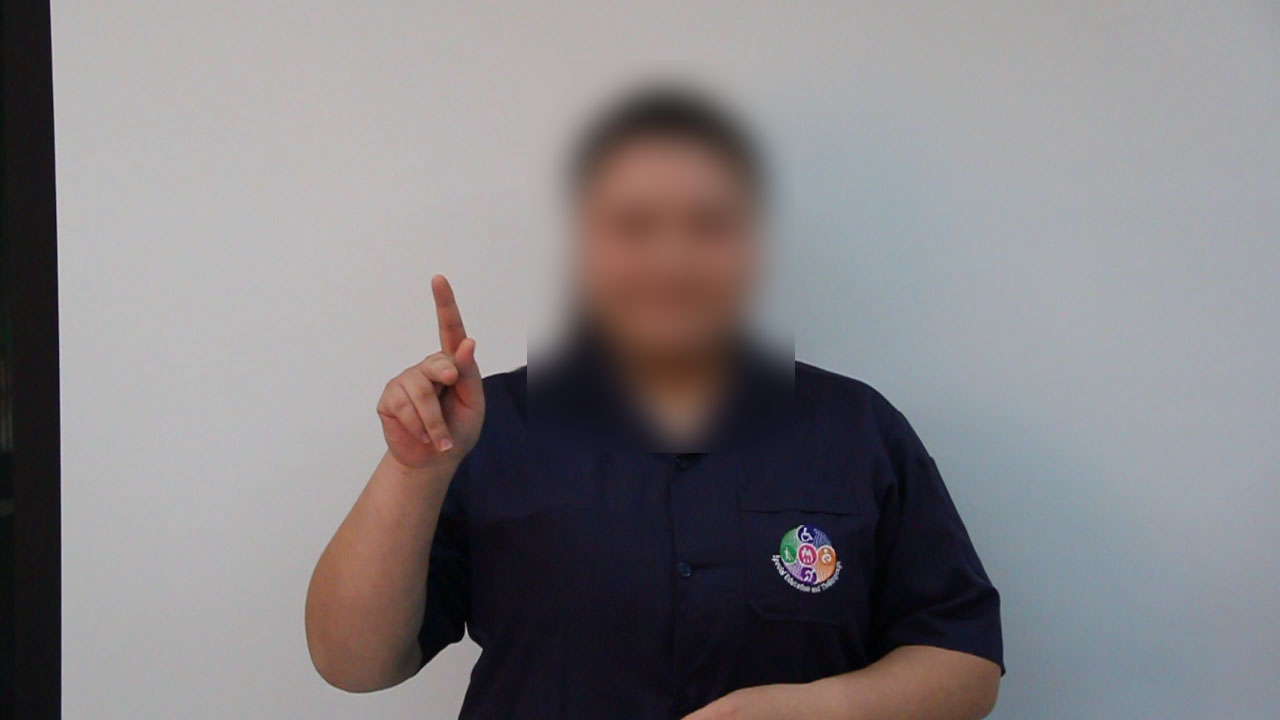ko: (368, 265, 494, 468)
